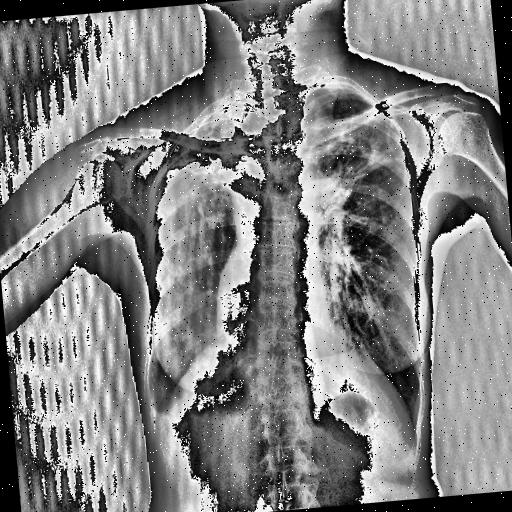1- Atelectasis: (148, 81, 420, 251)
10- Pleural effusion: (134, 382, 207, 450)
11- Pleural thickening: (148, 81, 420, 251), (138, 388, 192, 429)
13- Pulmonary fibrosis: (148, 81, 420, 251), (306, 110, 408, 218), (163, 106, 276, 202), (318, 126, 398, 184), (164, 142, 224, 209)
6- Infiltration: (306, 110, 408, 218), (163, 106, 276, 202)
7- Lung Opacity: (148, 81, 420, 251)
9- Other lesion: (148, 81, 420, 251)
